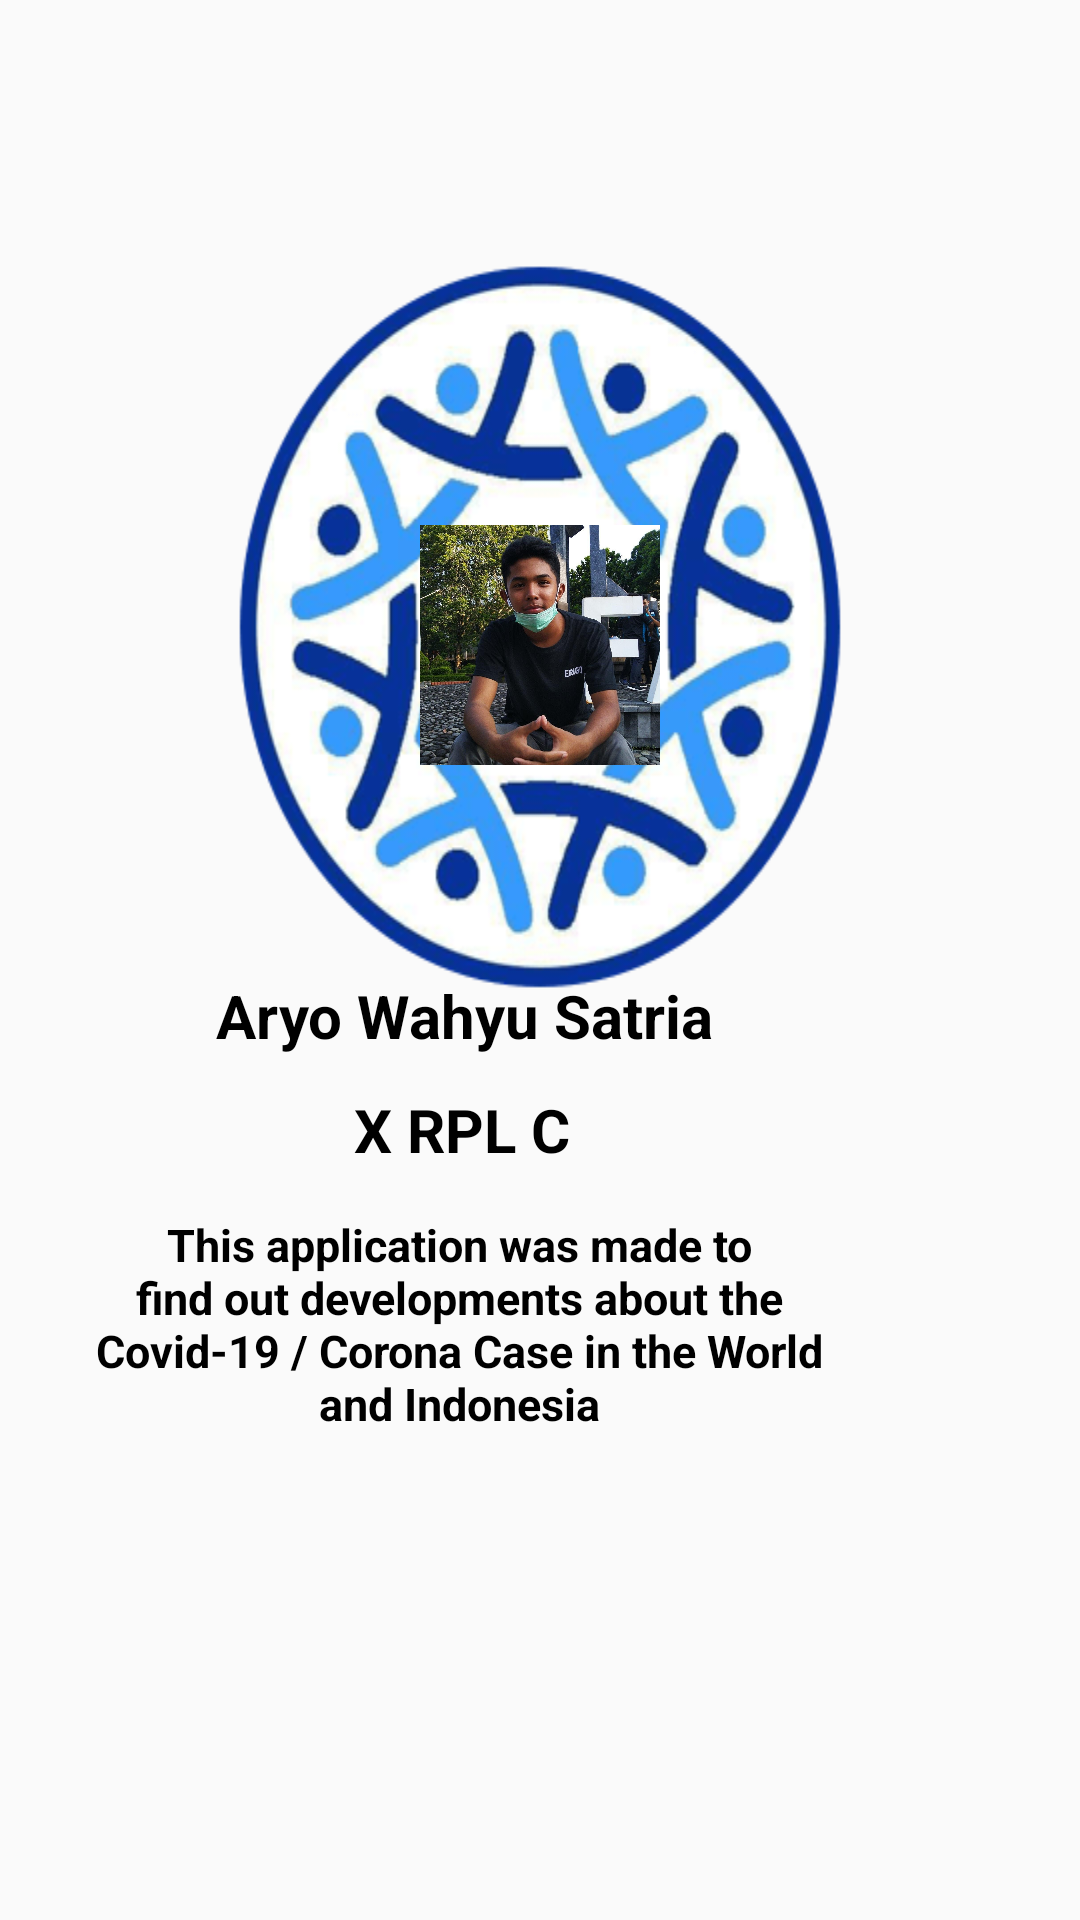

Named icons in this screenshot (1080 × 1920) and their centers, (x,y):
user: (540,645)
